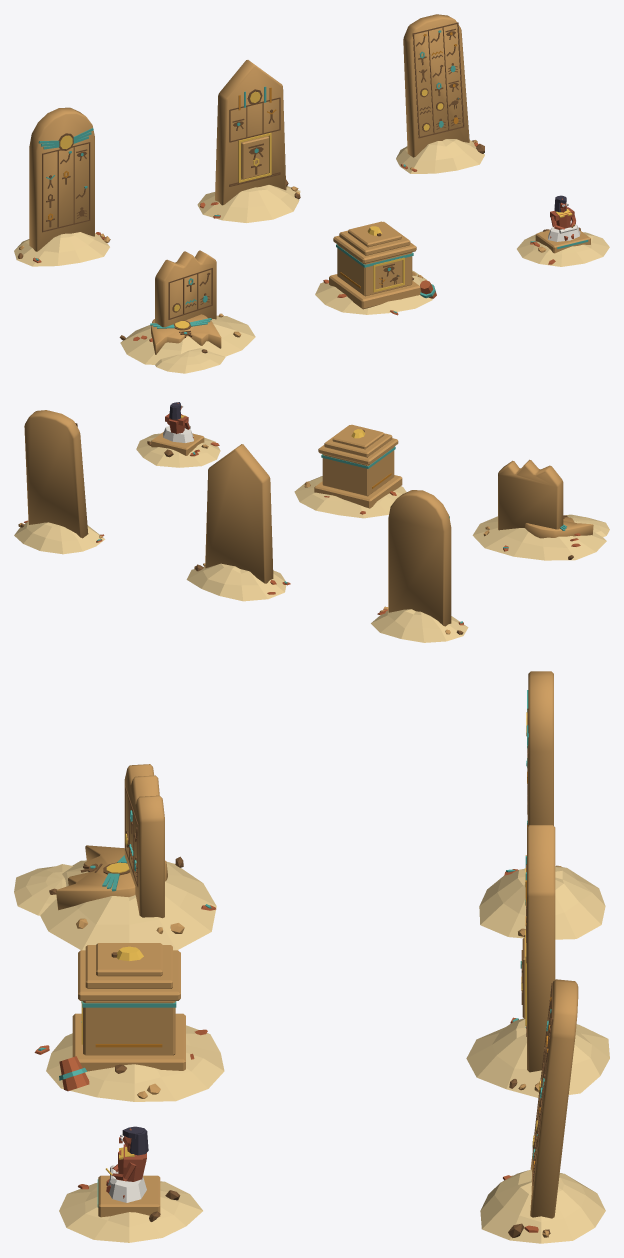
The model's file is desert-carved-tablets.glb.
3 renders of one model, top to bottom at view 1: azimuth 30°, elevation 25°; view 2: azimuth 150°, elevation 25°; view 3: azimuth 270°, elevation 25°, orthographic. The views are drawn at different scales.
Visible parts, largest first — view 1: Tablet_Arched_Slab, Tablet_Leaning_Slab, Tablet_Door_Slab, Plinth_Stone, Tablet_Broken_Sand, Tablet_Broken_Slab, Tablet_Door_Sand, Tablet_Arched_Sand, Tablet_Leaning_Sand, Tablet_Leaning_Carving, Statue_Scribe_Sand, Plinth_Sand (+9 smaller); view 2: Tablet_Arched_Slab, Tablet_Door_Slab, Tablet_Leaning_Slab, Tablet_Broken_Slab, Plinth_Stone, Tablet_Broken_Sand, Tablet_Door_Sand, Tablet_Arched_Sand, Tablet_Leaning_Sand, Plinth_Sand, Statue_Scribe_Sand, Lid (+4 smaller); view 3: Tablet_Broken_Sand, Plinth_Stone, Tablet_Door_Slab, Tablet_Leaning_Slab, Plinth_Sand, Tablet_Leaning_Sand, Tablet_Door_Sand, Tablet_Arched_Sand, Tablet_Broken_Slab, Statue_Scribe_Sand, Tablet_Arched_Slab, Lid (+6 smaller).
Part boxes in pixels (<box>): Tablet_Arched_Slab: <box>29,107,94,251</box>; Tablet_Leaning_Slab: <box>403,14,469,157</box>; Tablet_Door_Slab: <box>215,60,286,205</box>; Plinth_Stone: <box>329,235,420,309</box>; Tablet_Broken_Sand: <box>120,315,255,373</box>; Tablet_Broken_Slab: <box>155,250,216,327</box>; Tablet_Door_Sand: <box>197,185,300,222</box>; Tablet_Arched_Sand: <box>14,232,109,266</box>; Tablet_Leaning_Sand: <box>396,139,484,173</box>; Tablet_Leaning_Carving: <box>412,22,464,138</box>; Statue_Scribe_Sand: <box>517,231,609,266</box>; Plinth_Sand: <box>315,270,432,314</box>; Tablet_Arched_Slab: <box>388,490,451,626</box>; Tablet_Door_Slab: <box>205,444,273,583</box>; Tablet_Leaning_Slab: <box>24,410,88,538</box>; Tablet_Broken_Slab: <box>498,459,563,530</box>; Plinth_Stone: <box>314,438,402,508</box>; Tablet_Broken_Sand: <box>472,514,609,560</box>; Tablet_Door_Sand: <box>186,563,286,601</box>; Tablet_Arched_Sand: <box>371,609,468,642</box>; Tablet_Leaning_Sand: <box>14,521,105,554</box>; Plinth_Sand: <box>294,476,406,518</box>; Statue_Scribe_Sand: <box>136,433,220,467</box>; Lid: <box>324,424,392,457</box>; Tablet_Broken_Sand: <box>14,860,216,950</box>; Plinth_Stone: <box>72,950,185,1071</box>; Tablet_Door_Slab: <box>527,825,555,1072</box>; Tablet_Leaning_Slab: <box>530,979,578,1218</box>; Plinth_Sand: <box>46,1025,224,1101</box>; Tablet_Leaning_Sand: <box>480,1169,605,1243</box>; Tablet_Door_Sand: <box>466,1018,609,1097</box>; Tablet_Arched_Sand: <box>479,866,605,939</box>; Tablet_Broken_Slab: <box>124,764,164,918</box>; Statue_Scribe_Sand: <box>59,1181,202,1242</box>; Tablet_Arched_Slab: <box>528,671,553,825</box>; Lid: <box>85,943,172,988</box>.
Size of the model in its own units: 35.45 by 10.01 by 23.15.
